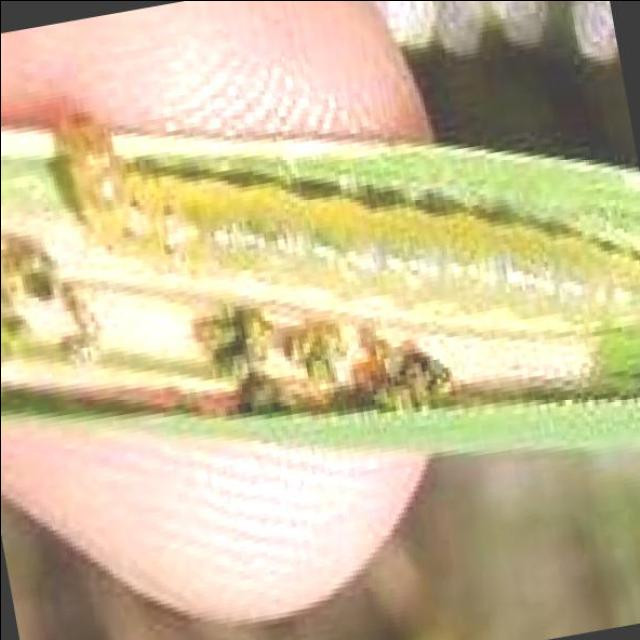leaf folder: (48, 119, 640, 333)
